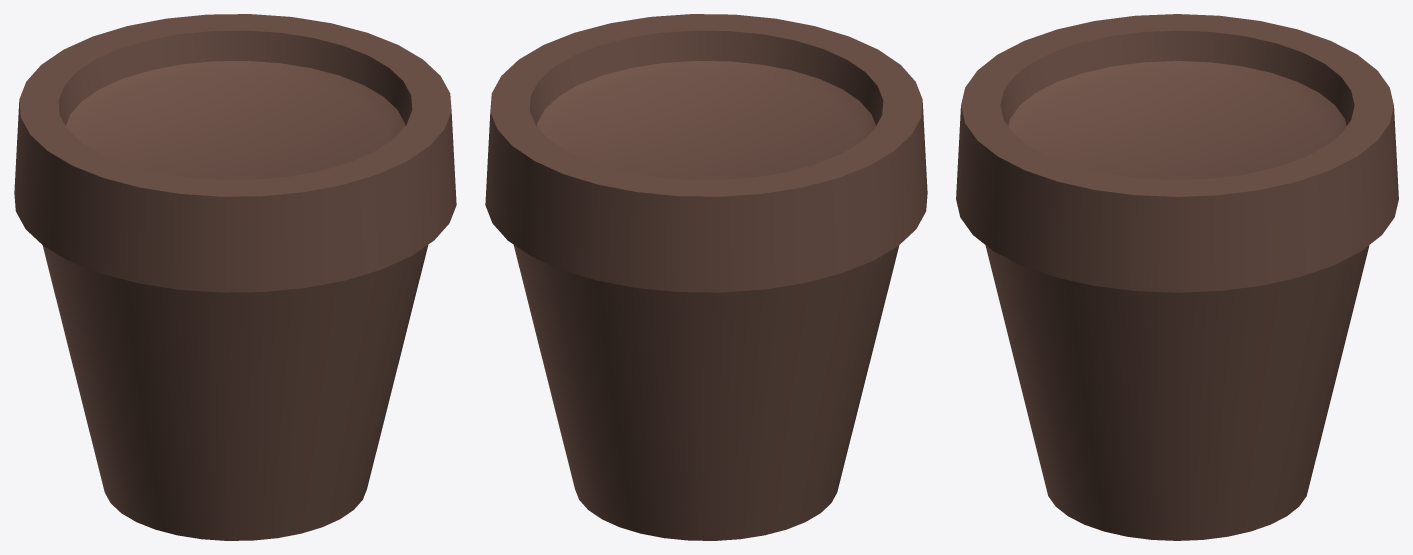
Rendered from basic_pot.fbx.
The picture shows the model from 3 angles, left to right: view 1: azimuth 30°, elevation 25°; view 2: azimuth 150°, elevation 25°; view 3: azimuth 270°, elevation 25°; orthographic projection.
Visible parts, largest first — view 1: Cylinder; view 2: Cylinder; view 3: Cylinder.
Part boxes in pixels (x1,y1,x2,y2): Cylinder: [14, 14, 456, 540]; Cylinder: [485, 14, 927, 540]; Cylinder: [956, 14, 1398, 540].
Bounding box in the file's own units: 218 × 206 × 218.
